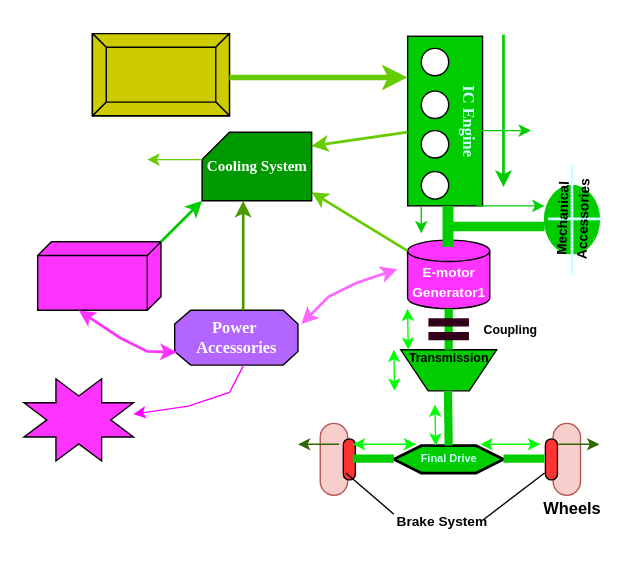
This 644x564 diagram has some shape labels left out. Each missing label, with the box of its shape:
Battery: (36, 240, 161, 310)
Electrical Accessories: (23, 377, 134, 461)
Fuel Tank: (91, 32, 229, 116)
